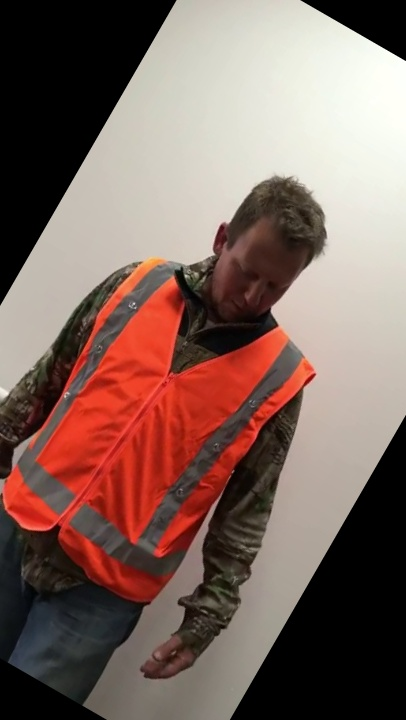NoHardhat: (30, 174, 319, 578)
